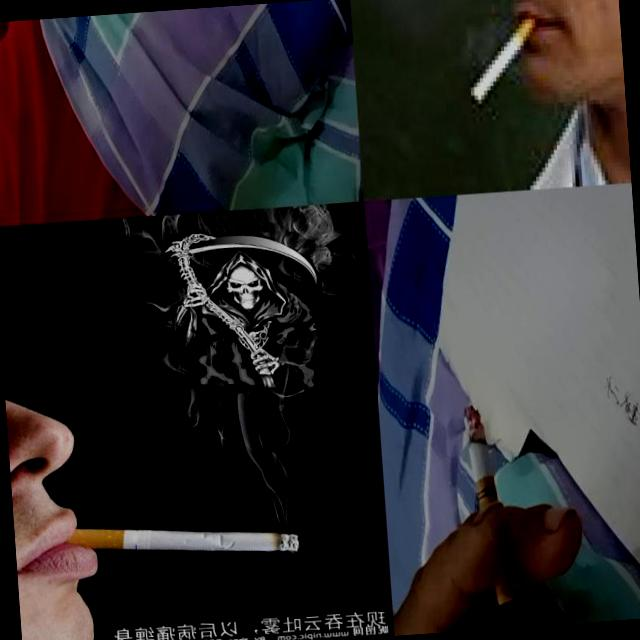cigarette: (58, 510, 300, 569), (461, 403, 515, 608), (463, 8, 545, 106)
